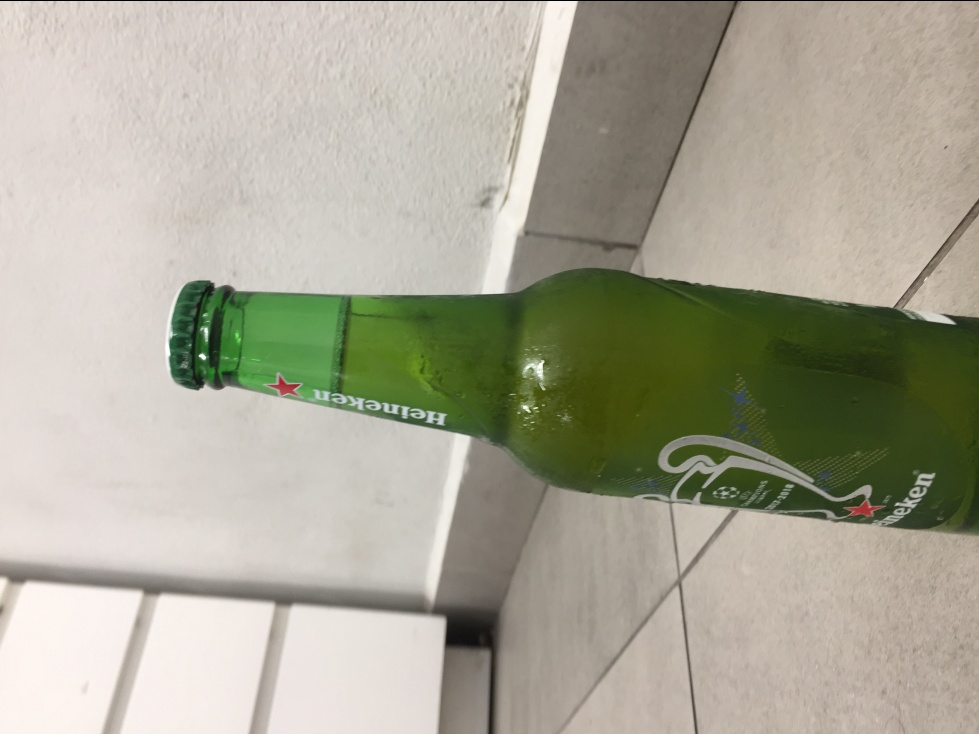heineken: (164, 266, 978, 538)
